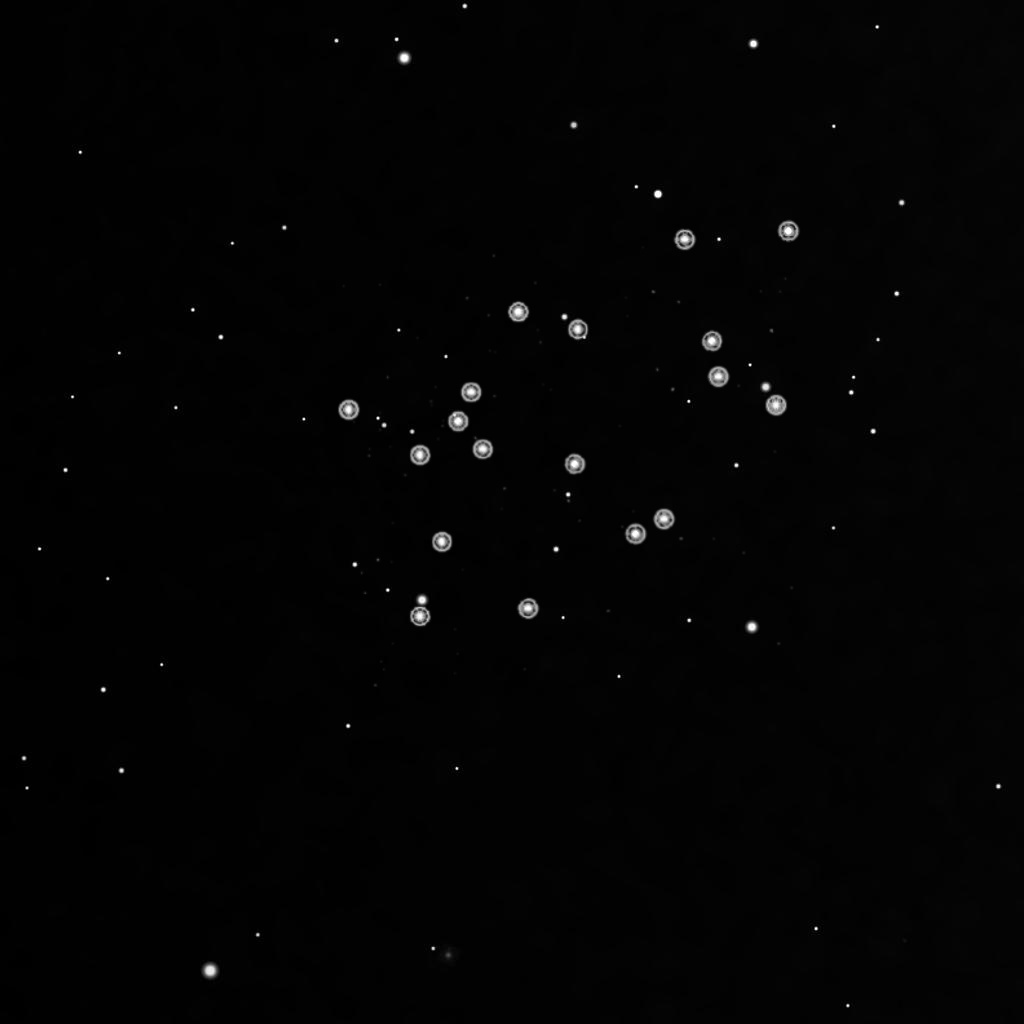canis_major: (402, 294, 593, 471)
